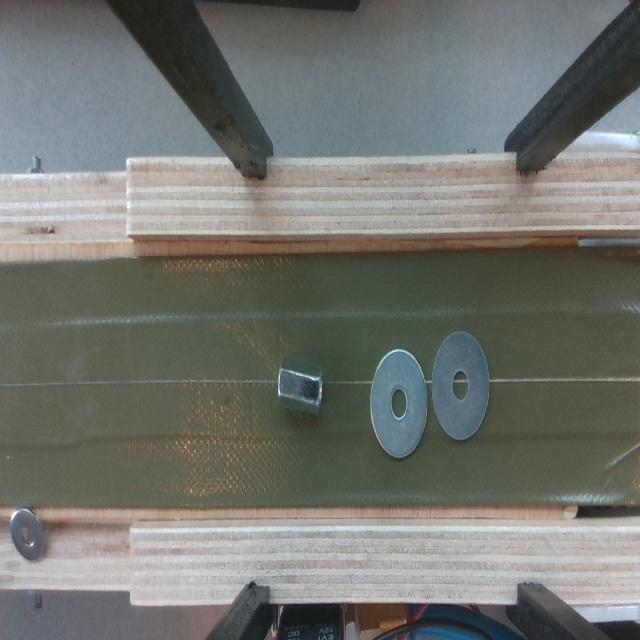Nut: (278, 359, 322, 414)
washer: (370, 350, 428, 459), (431, 331, 489, 440), (10, 509, 45, 560)
